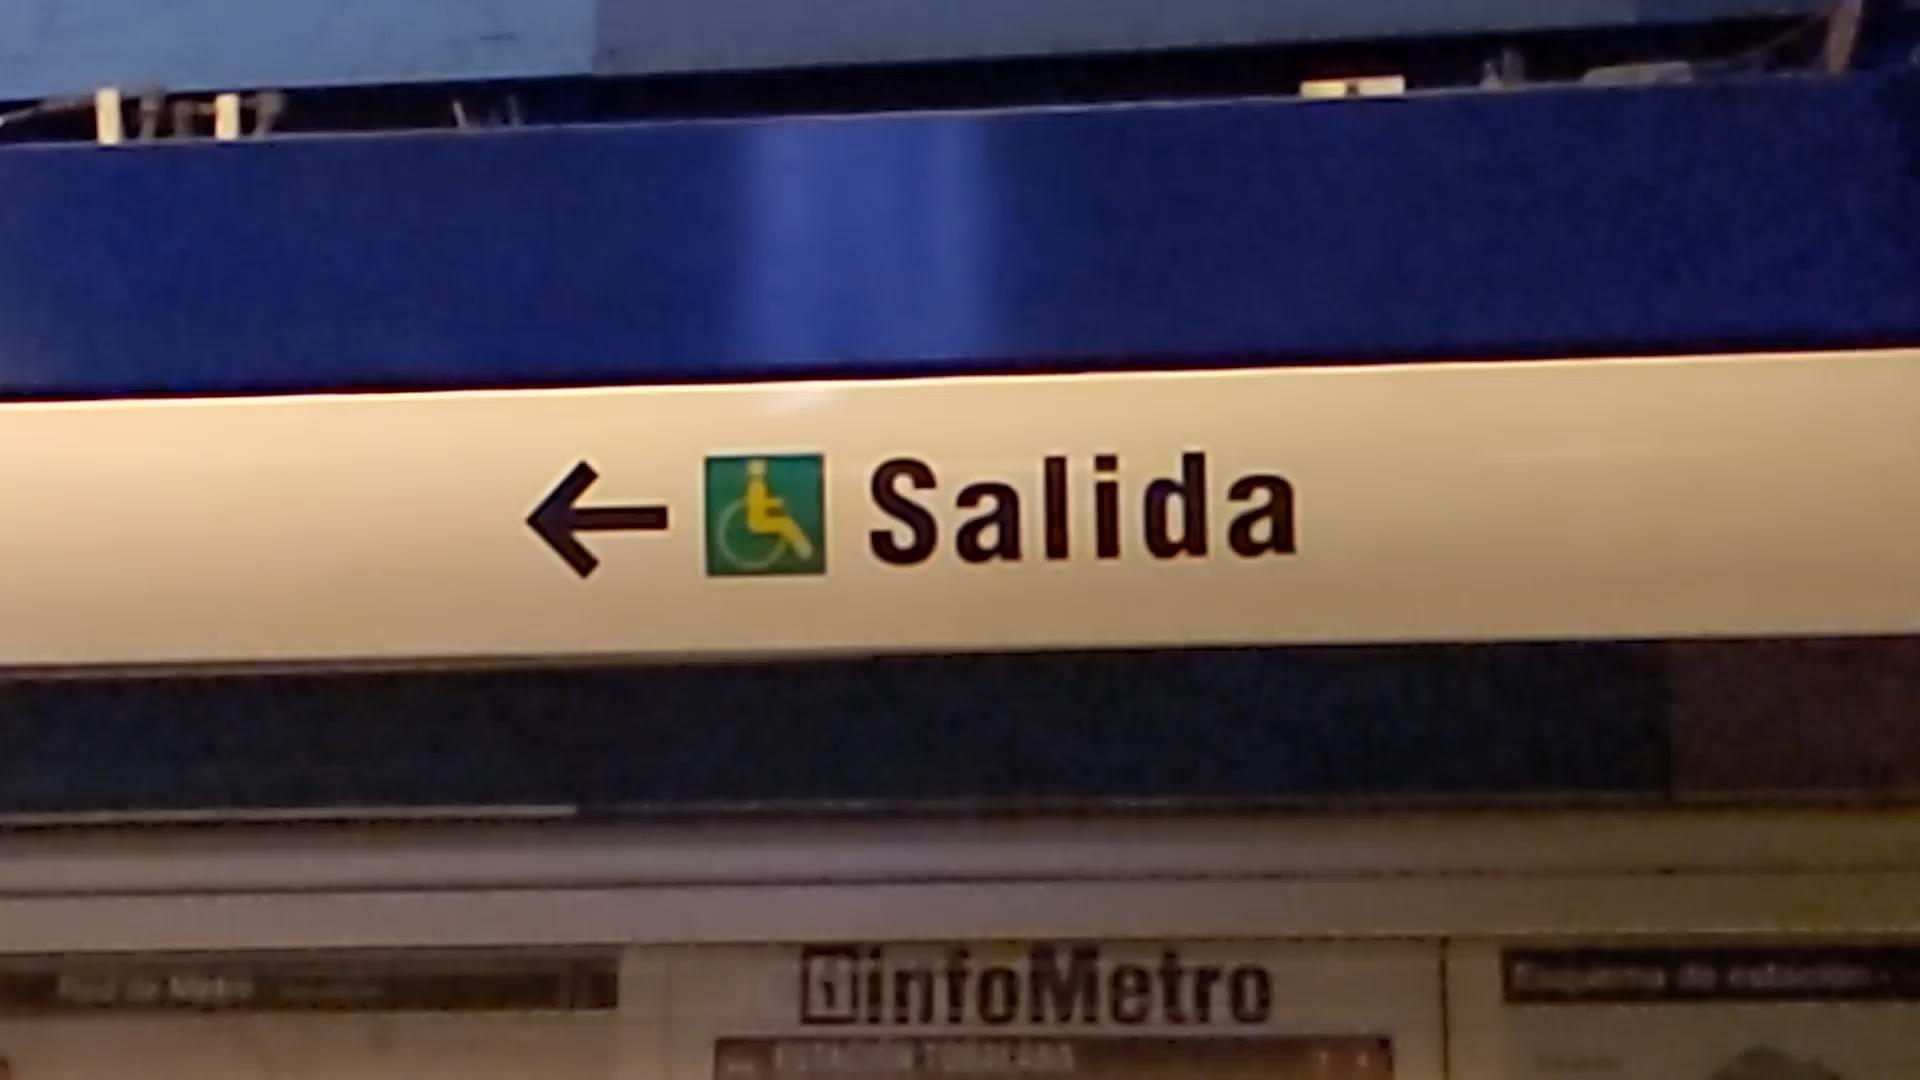handicapped symbol: (717, 458, 814, 575)
left arrow: (516, 458, 675, 579)
